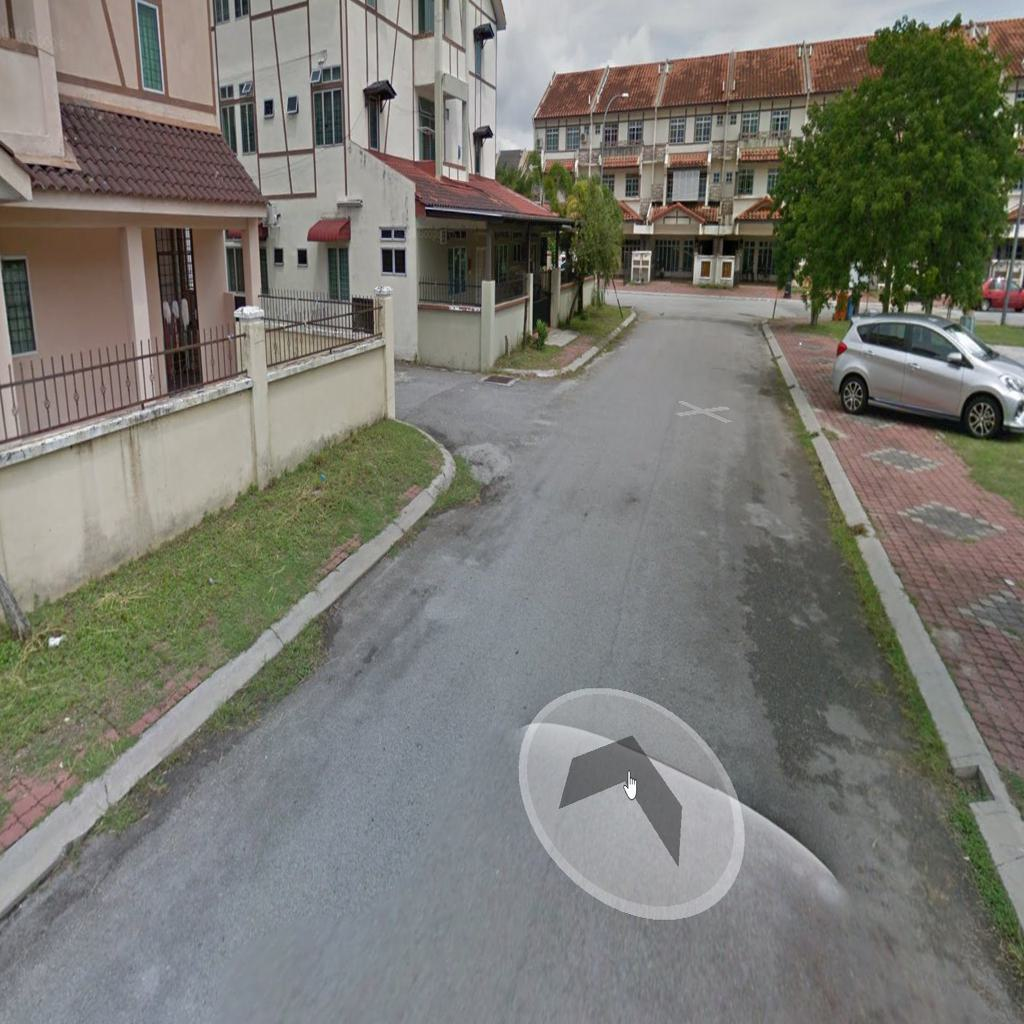Junction: (383, 334, 611, 507)
